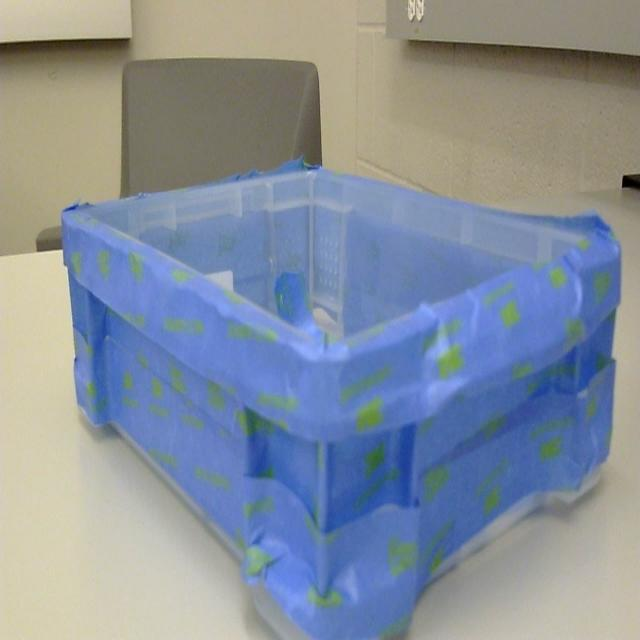bucket: (59, 160, 622, 640)
